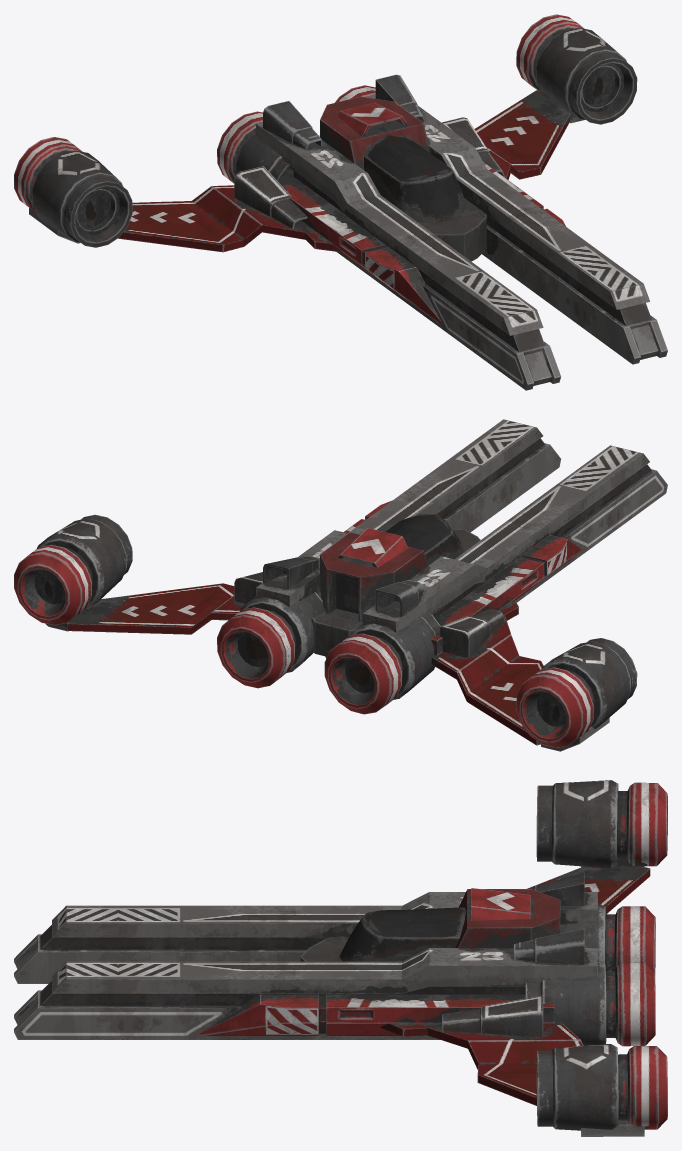
File: executioner-red.glb
3 renders of one model, top to bottom at view 1: azimuth 30°, elevation 25°; view 2: azimuth 150°, elevation 25°; view 3: azimuth 270°, elevation 25°, orthographic. The views are drawn at different scales.
Parts seen in each view (by area): view 1: Executioner; view 2: Executioner; view 3: Executioner.
Boxes of the visible parts, x1,y1,x2,y2 form: Executioner: (14,14,667,390); Executioner: (14,419,667,751); Executioner: (14,780,667,1136).
Bounding box in the file's own units: 10.02 × 1.85 × 9.2.
Materials: 1 (1 with a texture image).
